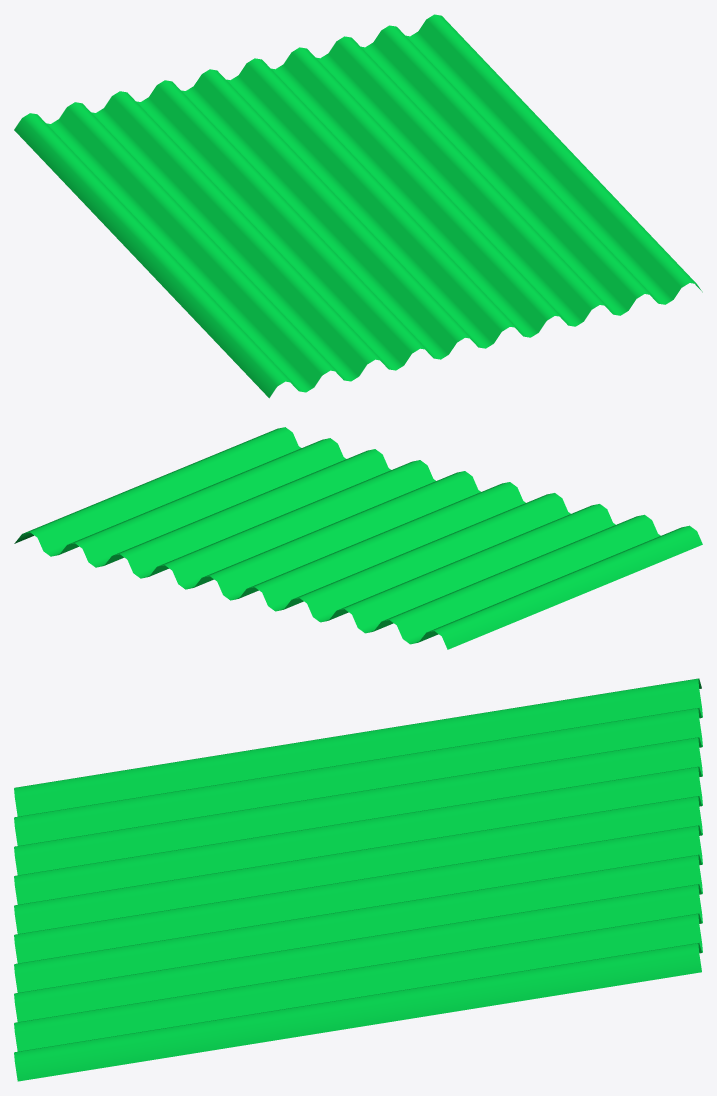
Rendered from Roof_01.fbx.
The picture shows the model from 3 angles, top to bottom: view 1: azimuth 30°, elevation 25°; view 2: azimuth 150°, elevation 25°; view 3: azimuth 270°, elevation 25°; orthographic projection. The views are drawn at different scales.
Parts seen in each view (by area): view 1: Roof_01; view 2: Roof_01; view 3: Roof_01.
Part boxes in pixels (box(x1,y1,x2,y2)): Roof_01: box(14, 14, 702, 398); Roof_01: box(14, 427, 702, 649); Roof_01: box(14, 678, 702, 1081).
Size of the model in its own units: 616 by 135 by 633.
